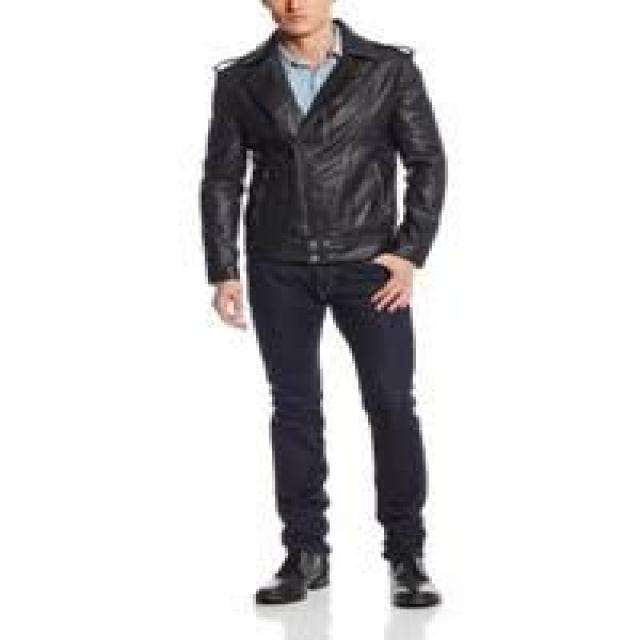Jacket: (164, 38, 457, 317)
